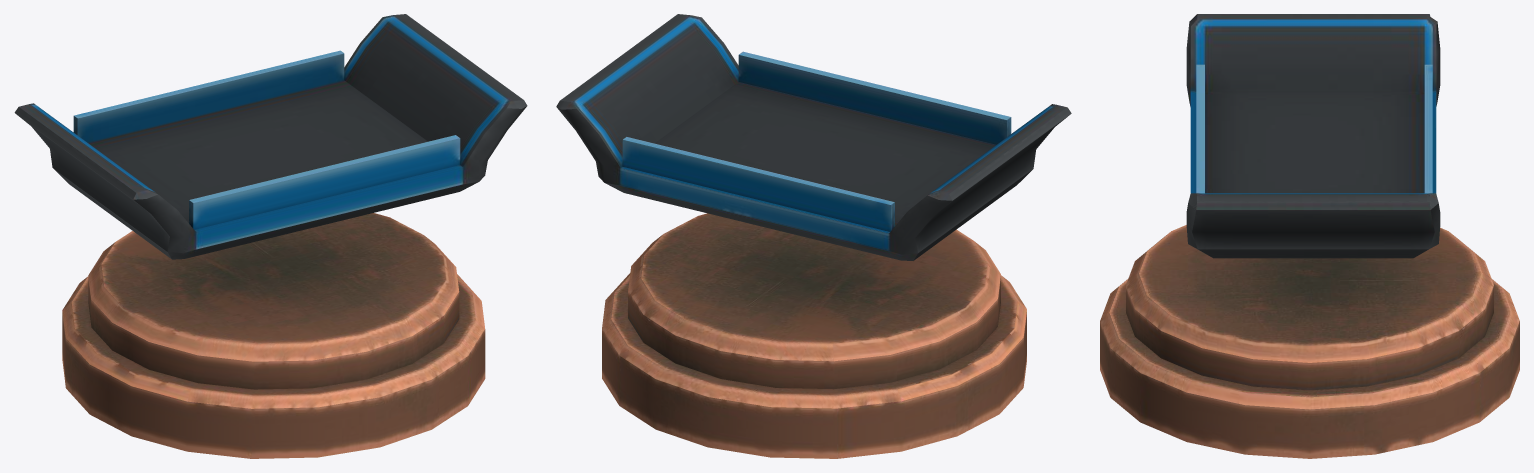
The model's file is CARROBRONZE.fbx.
3 renders of one model, left to right at view 1: azimuth 30°, elevation 25°; view 2: azimuth 150°, elevation 25°; view 3: azimuth 270°, elevation 25°, orthographic.
Parts seen in each view (by area): view 1: polySurface43, polySurface42; view 2: polySurface43, polySurface42; view 3: polySurface43, polySurface42.
Part boxes in pixels (<box>): polySurface43: <box>62,213,485,458</box>; polySurface42: <box>14,14,527,259</box>; polySurface43: <box>602,213,1026,458</box>; polySurface42: <box>556,14,1071,260</box>; polySurface43: <box>1100,225,1519,458</box>; polySurface42: <box>1186,14,1440,258</box>.
Bounding box in the file's own units: 0.5112 × 0.3298 × 0.4773.
1 material, 1 textured.
